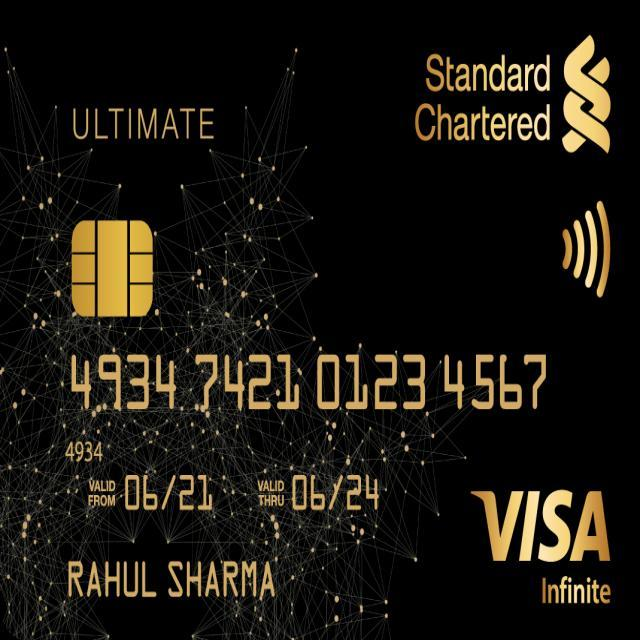Standard Chartered: (414, 32, 612, 156)
